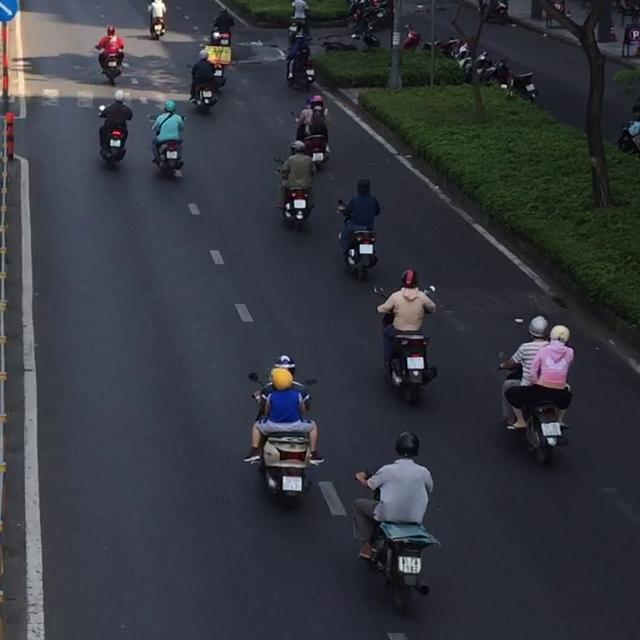Motorcycle: (356, 468, 440, 615), (246, 371, 321, 507), (496, 351, 572, 465), (373, 284, 438, 405), (336, 199, 378, 280), (273, 157, 315, 230), (147, 114, 185, 179), (290, 110, 330, 170), (97, 104, 130, 169), (188, 62, 219, 115), (285, 48, 316, 91), (94, 44, 123, 86), (148, 14, 166, 41)
